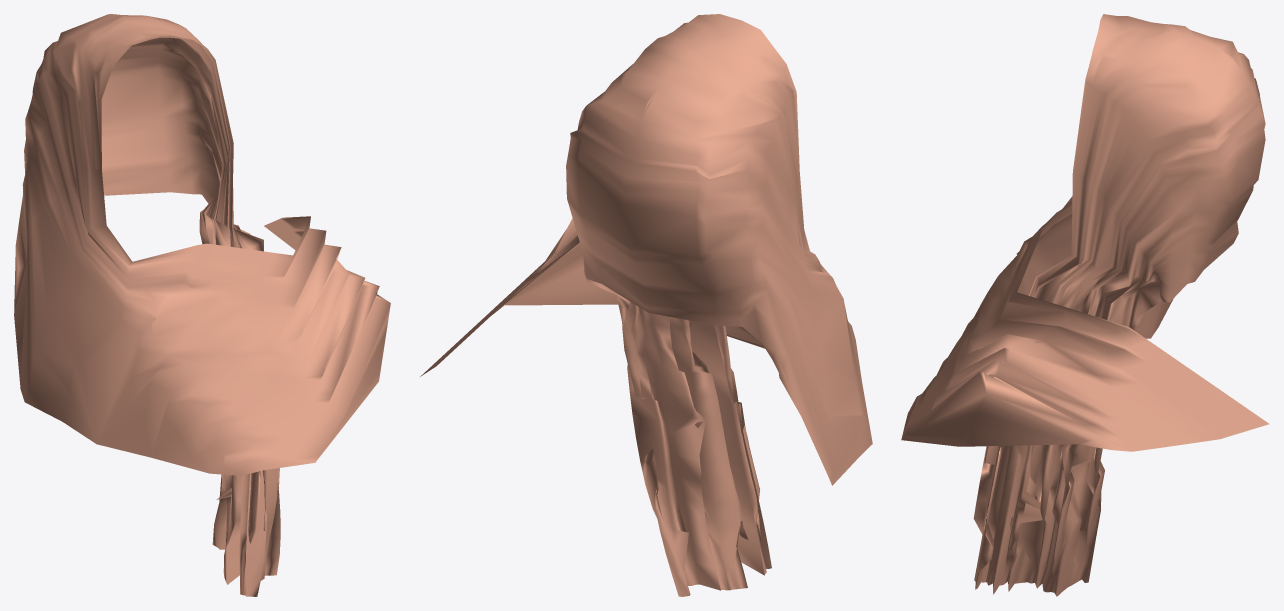
File: shawl2.glb
3 views of the same model, side by side, from view 1: azimuth 30°, elevation 25°; view 2: azimuth 150°, elevation 25°; view 3: azimuth 270°, elevation 25° (orthographic). The views are drawn at different scales.
Visible parts, largest first — view 1: Plane; view 2: Plane; view 3: Plane.
Part boxes in pixels (x1,y1,x2,y2): Plane: (14, 14, 390, 596); Plane: (420, 14, 872, 596); Plane: (901, 14, 1269, 596).
Size of the model in its own units: 0.3574 by 0.5611 by 0.3432.
